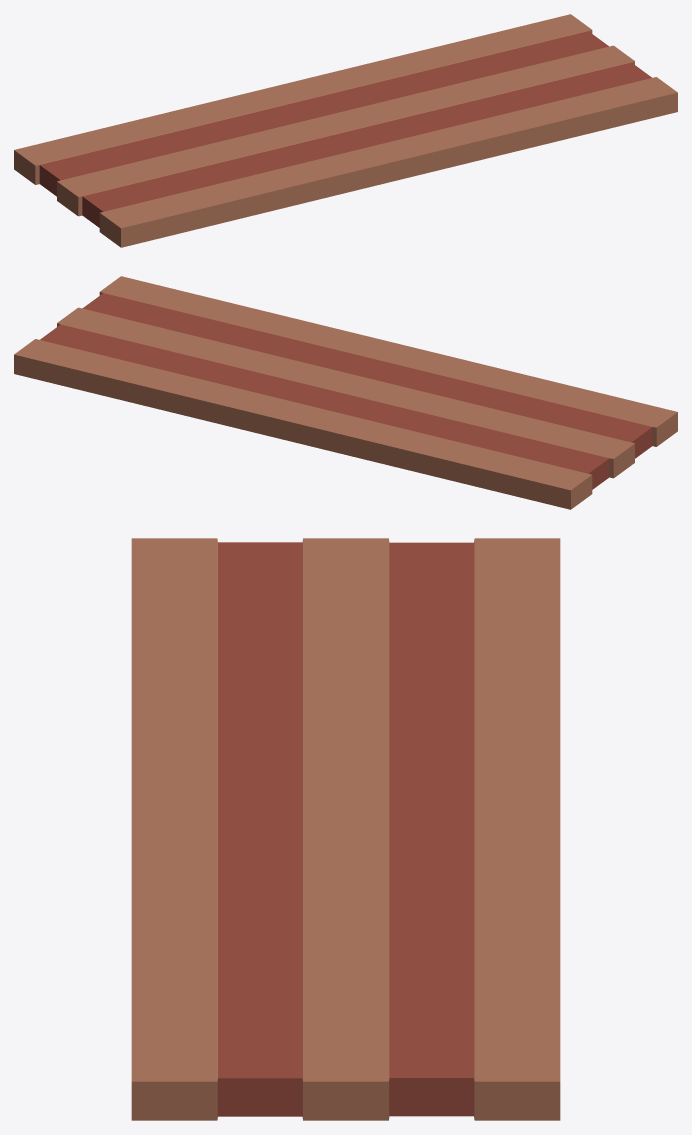
The model's file is Lv3Bridge.fbx.
3 renders of one model, top to bottom at view 1: azimuth 30°, elevation 25°; view 2: azimuth 150°, elevation 25°; view 3: azimuth 270°, elevation 25°, orthographic. The views are drawn at different scales.
Visible parts, largest first — view 1: Lv3Bridge; view 2: Lv3Bridge; view 3: Lv3Bridge.
Part boxes in pixels (<box>): Lv3Bridge: <box>14,14,677,247</box>; Lv3Bridge: <box>14,276,677,509</box>; Lv3Bridge: <box>131,538,560,1120</box>.
Size of the model in its own units: 1200 by 40 by 400.
